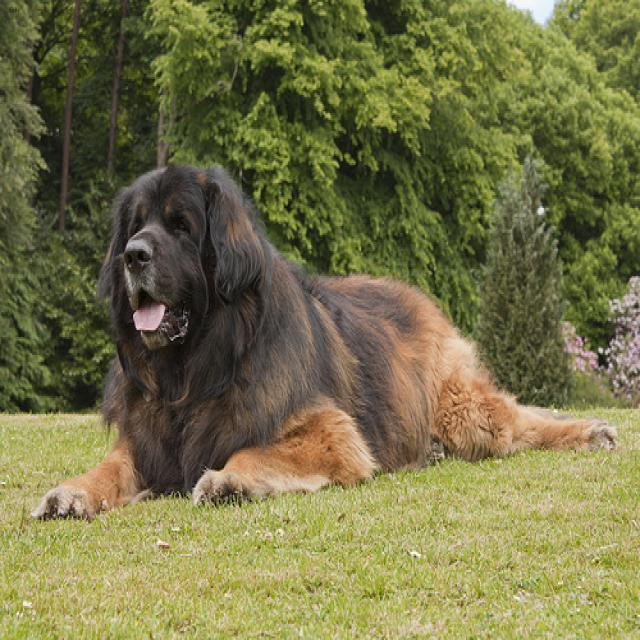dog-leonberger: (23, 149, 630, 531)
